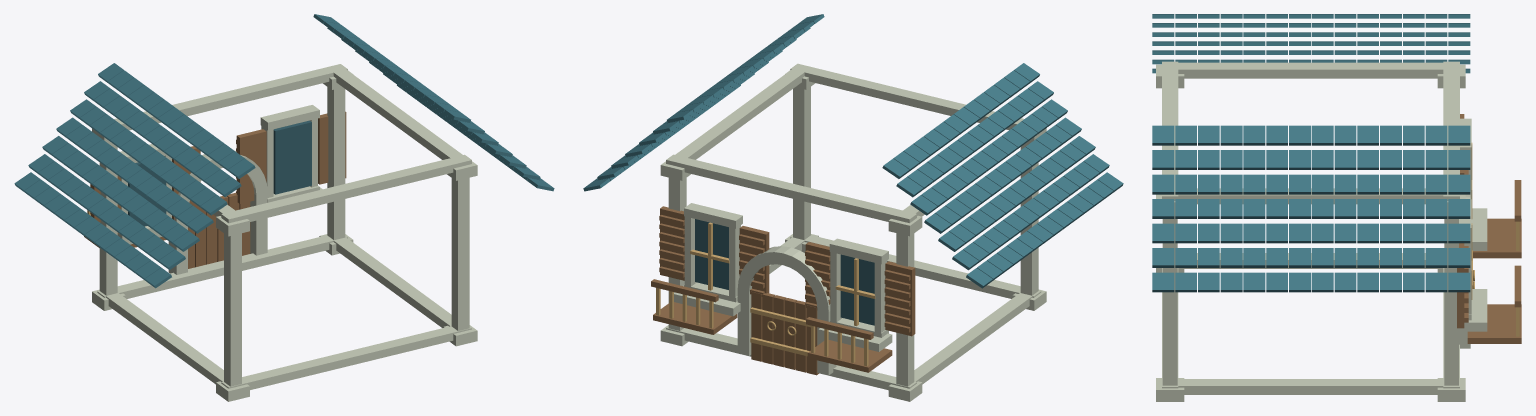
The model's file is market.glb.
The picture shows the model from 3 angles, left to right: view 1: azimuth 30°, elevation 25°; view 2: azimuth 150°, elevation 25°; view 3: azimuth 270°, elevation 25°; orthographic projection. The views are drawn at different scales.
Parts seen in each view (by area): view 1: Recessed azure arcade glazing.002; view 2: Recessed azure arcade glazing.002; view 3: Recessed azure arcade glazing.002.
Boxes of the visible parts, box(x1,y1,x2,y2) form: Recessed azure arcade glazing.002: box(14, 14, 554, 401); Recessed azure arcade glazing.002: box(583, 14, 1123, 401); Recessed azure arcade glazing.002: box(1152, 14, 1521, 401).
Size of the model in its own units: 6.32 by 3.51 by 4.46.
